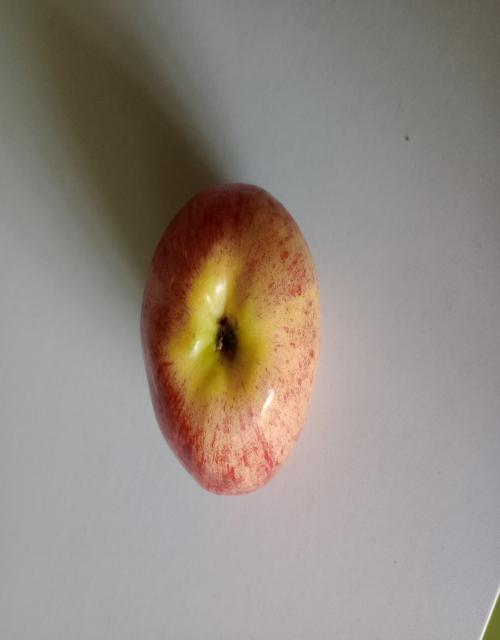Manzana: (110, 151, 344, 512)
